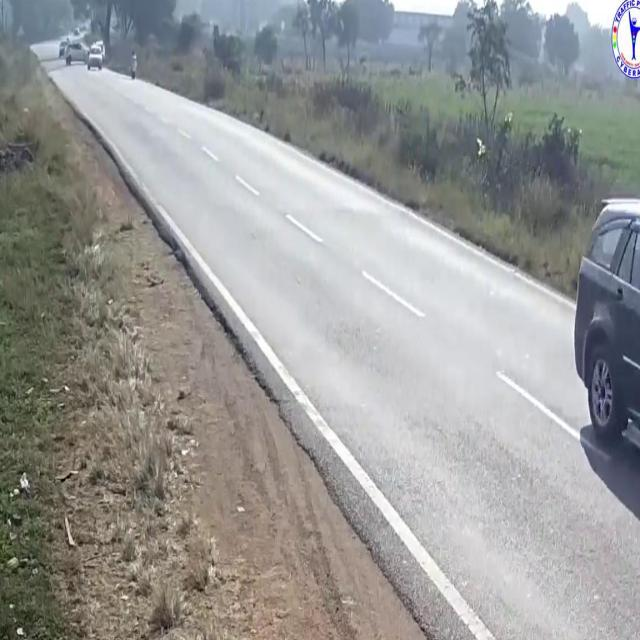accident: (61, 34, 108, 74)
